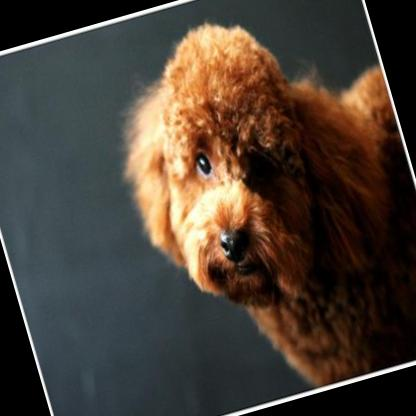toy_poodle: (86, 0, 416, 416)
